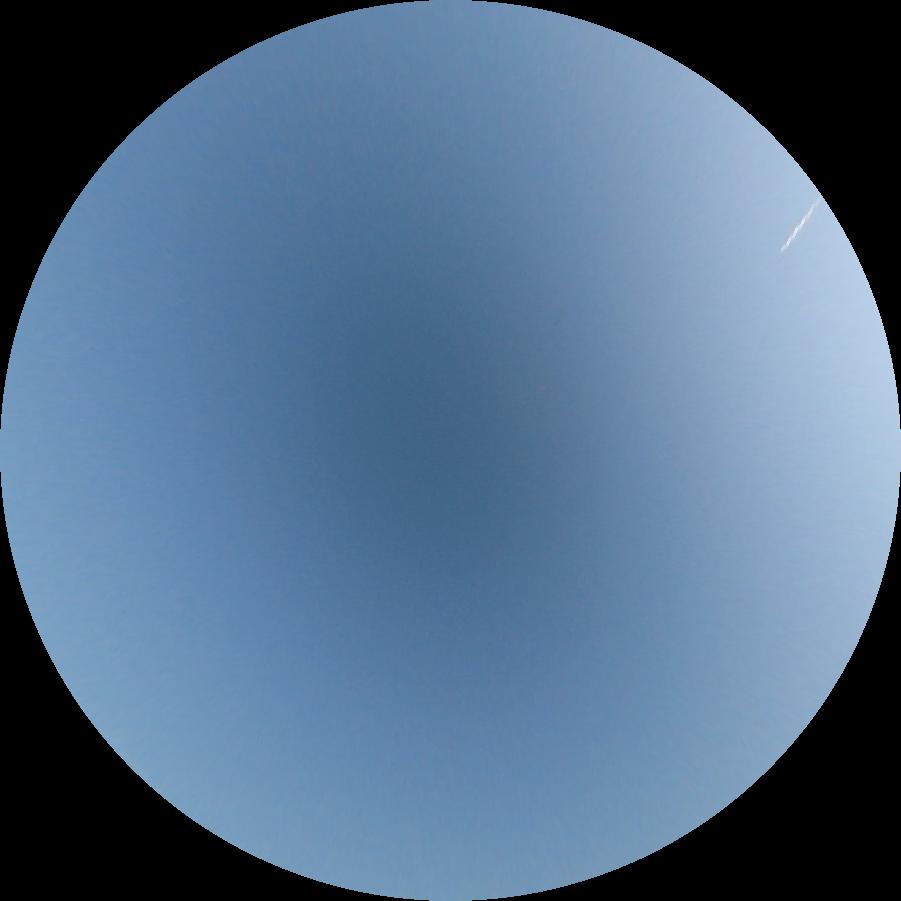contrail young: (778, 195, 821, 252)
